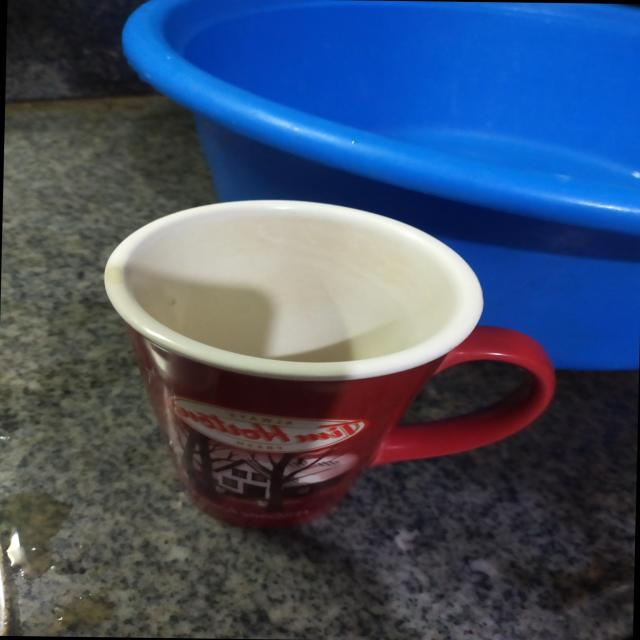taza: (104, 200, 555, 534)
